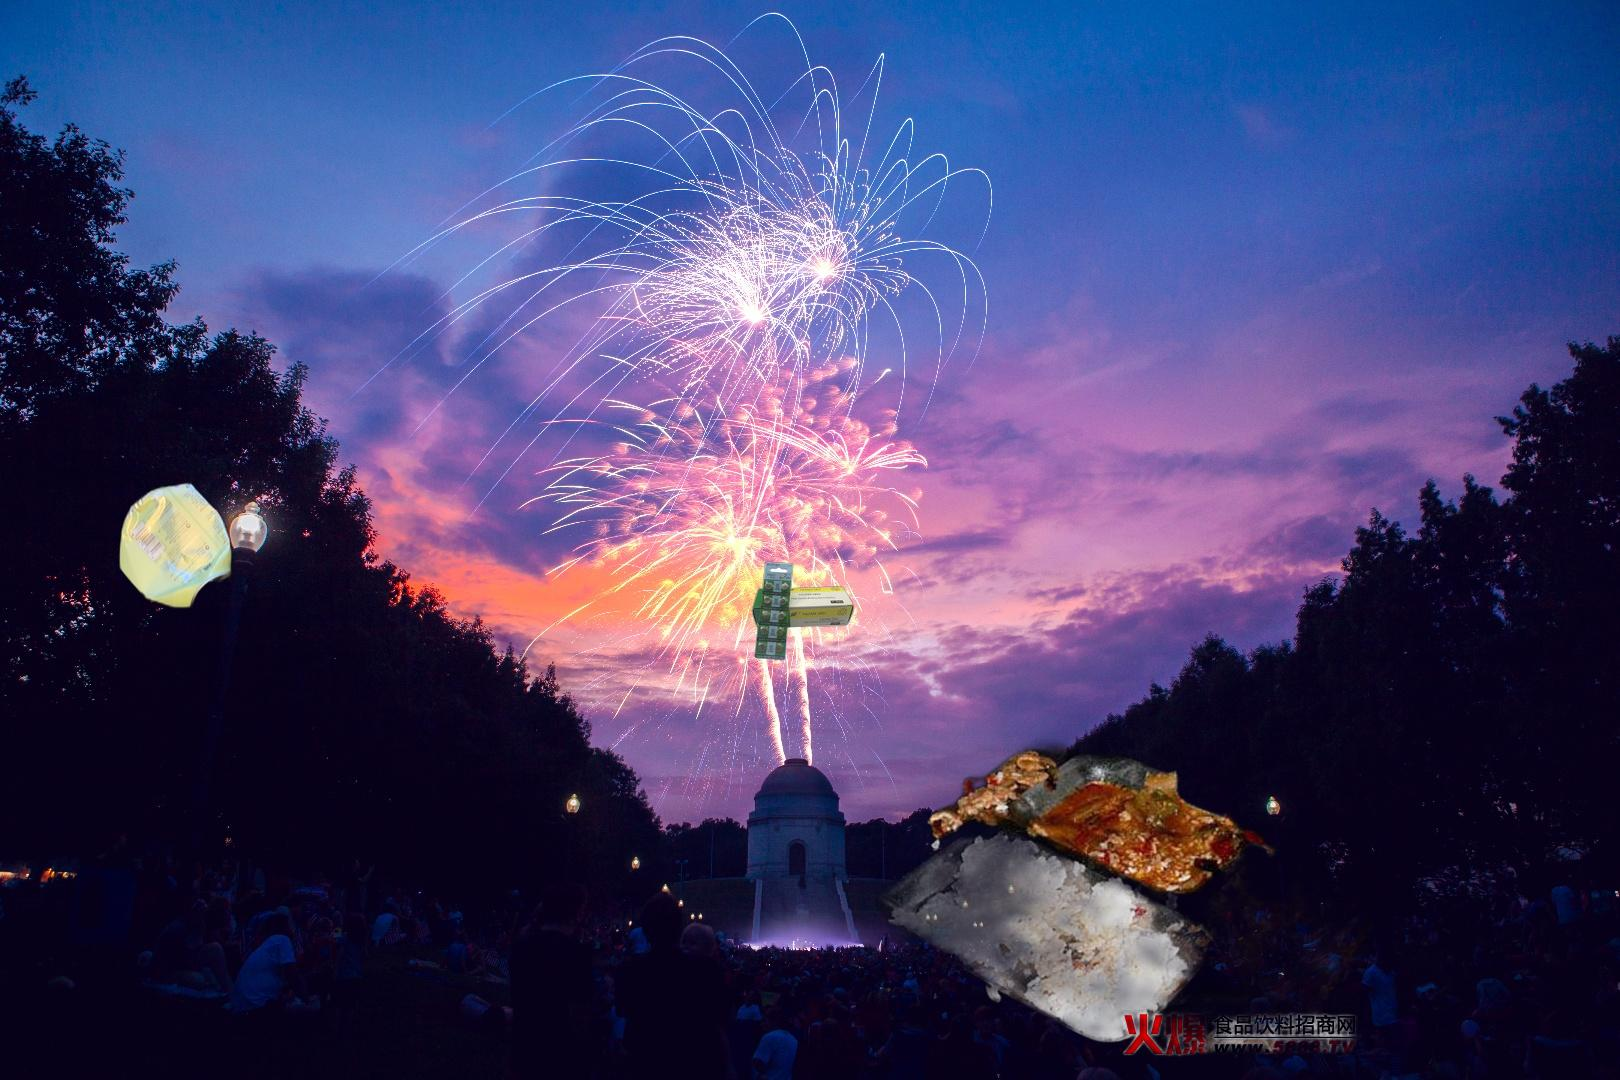battery: (749, 559, 857, 663)
biological: (873, 708, 1373, 1073)
metal-cans: (115, 477, 237, 614)
trashbox-cardboard: (1243, 958, 1620, 1080)
